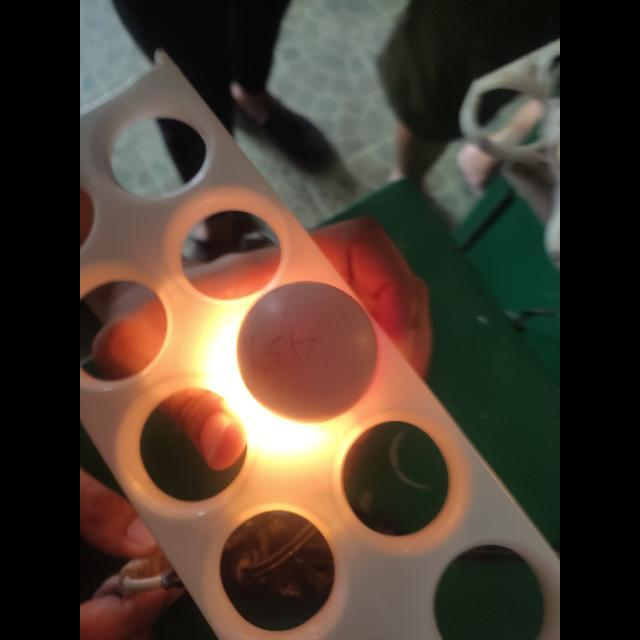Fertile: (235, 284, 378, 428)
